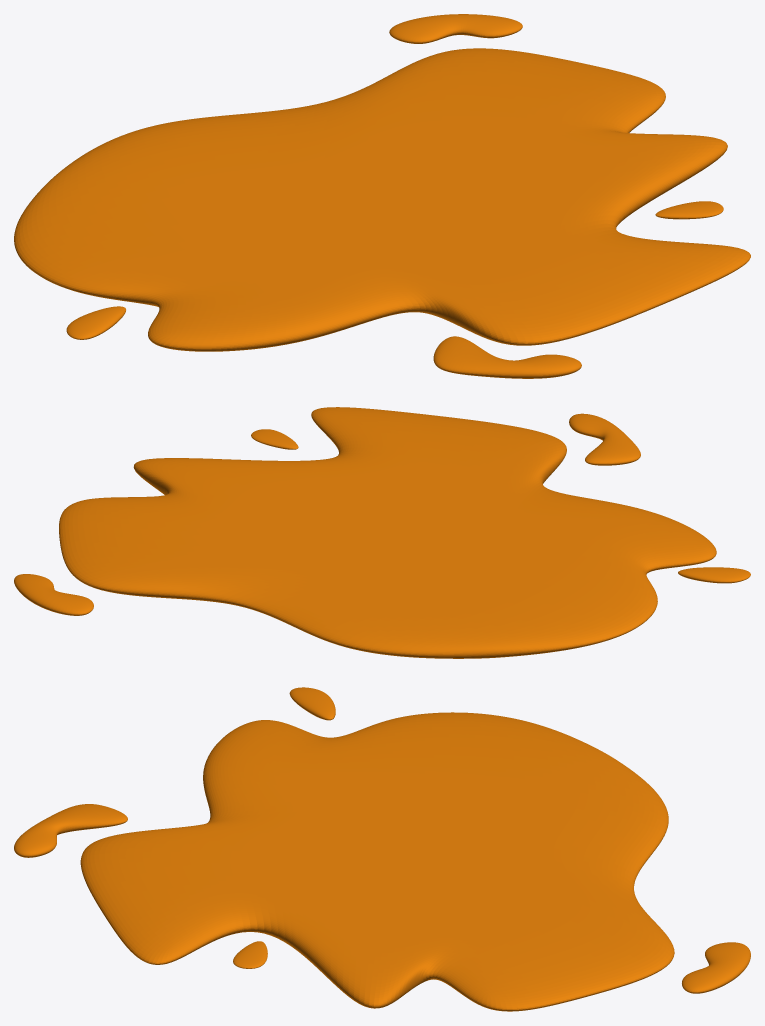
Rendered from assets mancha de grasa 3 x.fbx.
3 renders of one model, top to bottom at view 1: azimuth 30°, elevation 25°; view 2: azimuth 150°, elevation 25°; view 3: azimuth 270°, elevation 25°, orthographic. The views are drawn at different scales.
Visible parts, largest first — view 1: Miel 3; view 2: Miel 3; view 3: Miel 3.
Part boxes in pixels (x1=…): Miel 3: x1=14, y1=14, x2=750, y2=378; Miel 3: x1=14, y1=407, x2=750, y2=658; Miel 3: x1=14, y1=687, x2=750, y2=1011.
Bounding box in the file's own units: 337 × 11.46 × 332.
